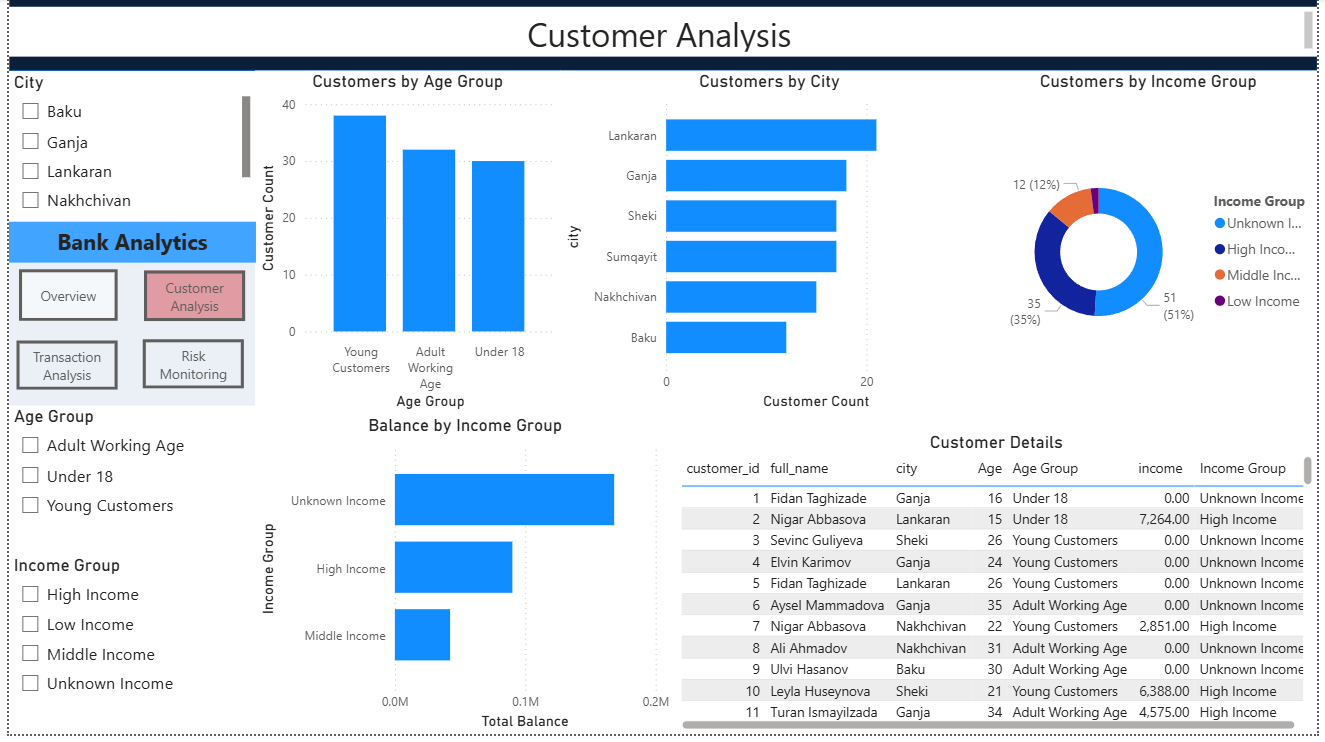

The page's visual inventory and layout, read from the dashboard file:
{"tool":"powerbi","page":{"name":"Customer Analysis","canvas":[1280,720],"ordinal":1},"visuals":[{"type":"shape","box":[0,0,1280.3,71.4],"z":0},{"type":"textbox","box":[0,9,1280.3,49],"z":1000},{"type":"slicer","title":"City","fields":{"Values":["customers.city"]},"box":[0,72.1,240.9,146.7],"z":2000},{"type":"slicer","title":"Age Group","fields":{"Values":["customers.Age Group"]},"box":[0,398.6,240.9,145.5],"z":3000},{"type":"slicer","title":"Income Group","fields":{"Values":["customers.Income Group"]},"box":[0,544.2,240.9,176.1],"z":4000},{"type":"clusteredColumnChart","title":"Customers by Age Group","fields":{"Category":["customers.Age Group"],"Y":["Measures Table.Customer Count"]},"box":[240.9,70.9,298.4,336.3],"z":5000},{"type":"donutChart","title":"Customers by Income Group","fields":{"Category":["customers.Income Group"],"Y":["Measures Table.Customer Count"]},"box":[948.9,70.9,331.4,336.3],"z":6000},{"type":"clusteredBarChart","title":"Balance by Income Group","fields":{"Category":["customers.Income Group"],"Y":["Measures Table.Total Balance"]},"box":[240.9,407.2,410.9,313],"z":7000},{"type":"clusteredBarChart","title":"Customers by City","fields":{"Category":["customers.city"],"Y":["Measures Table.Customer Count"]},"box":[539.3,70.9,409.6,336.3],"z":8000},{"type":"tableEx","title":"Customer Details","fields":{"Values":["customers.customer_id","customers.full_name","customers.city","customers.Age","customers.Age Group","customers.income","customers.Income Group"]},"box":[651.8,424,628.5,296.4],"z":9000},{"type":"shape","box":[0,218.9,240.9,179.8],"z":9500},{"type":"group","id":"g1","title":"Group 1","box":[0,218.4,241.3,164.1],"z":10000},{"type":"actionButton","box":[7.2,334.2,98.9,48.3],"z":21500,"group":"g1"},{"type":"actionButton","box":[9.7,265.5,96.5,50.7],"z":21750,"group":"g1"},{"type":"actionButton","box":[131.5,266.7,98.9,49.5],"z":21875,"group":"g1"},{"type":"textbox","box":[0,218.4,241.3,39.8],"z":22000,"group":"g1"},{"type":"actionButton","box":[130.3,333,98.9,48.3],"z":23000,"group":"g1"}]}

Visuals, with their boxes in screenshot pixels (x1, y1, x2, y2), scaled from the page's 1280x720 canvas onto the 1325x742 screenshot:
shape: rect(0, 0, 1324, 74)
textbox: rect(0, 9, 1324, 60)
"City" slicer: rect(0, 74, 249, 225)
"Age Group" slicer: rect(0, 411, 249, 561)
"Income Group" slicer: rect(0, 561, 249, 741)
"Customers by Age Group" clusteredColumnChart: rect(249, 73, 558, 420)
"Customers by Income Group" donutChart: rect(982, 73, 1324, 420)
"Balance by Income Group" clusteredBarChart: rect(249, 420, 675, 741)
"Customers by City" clusteredBarChart: rect(558, 73, 982, 420)
"Customer Details" tableEx: rect(675, 437, 1324, 741)
shape: rect(0, 226, 249, 411)
"Group 1" group: rect(0, 225, 250, 394)
actionButton: rect(7, 344, 110, 394)
actionButton: rect(10, 274, 110, 326)
actionButton: rect(136, 275, 238, 326)
textbox: rect(0, 225, 250, 266)
actionButton: rect(135, 343, 237, 393)
